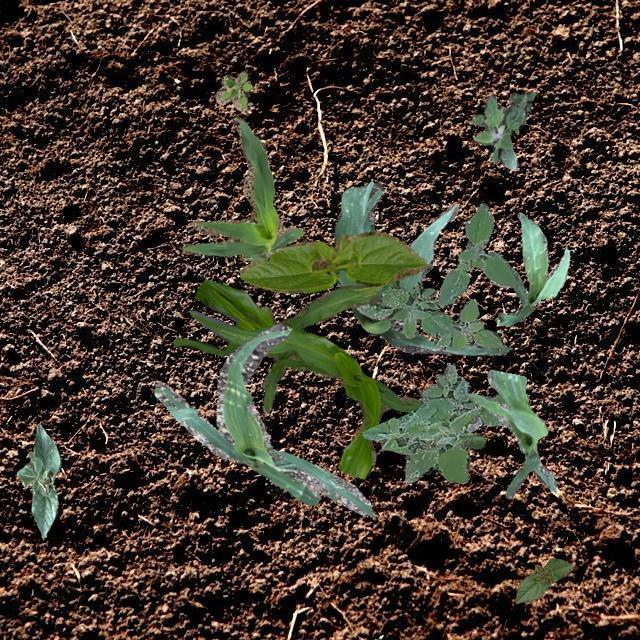crop: (172, 278, 424, 478), (153, 322, 374, 516), (333, 180, 511, 354), (180, 116, 304, 260), (238, 230, 428, 292), (466, 368, 556, 498), (496, 212, 568, 324), (15, 422, 60, 538), (514, 558, 572, 602)
weed: (356, 202, 518, 350), (362, 392, 506, 483), (418, 362, 506, 432), (470, 90, 536, 168), (214, 70, 250, 110)
